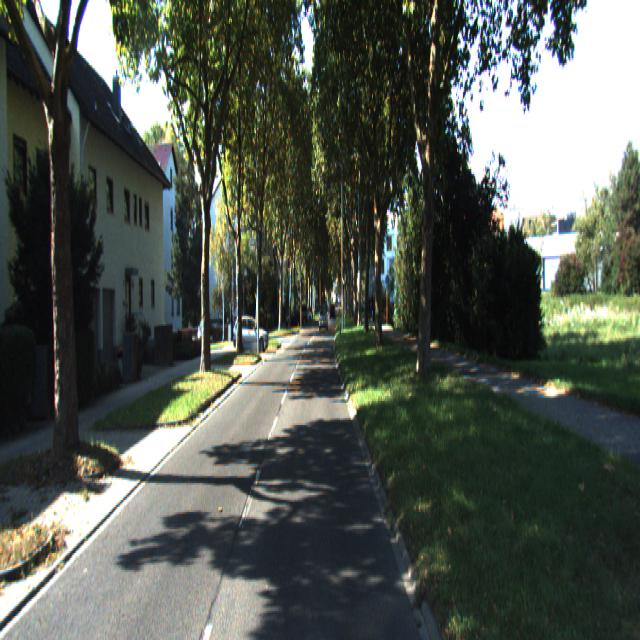Car: (232, 314, 270, 352)
